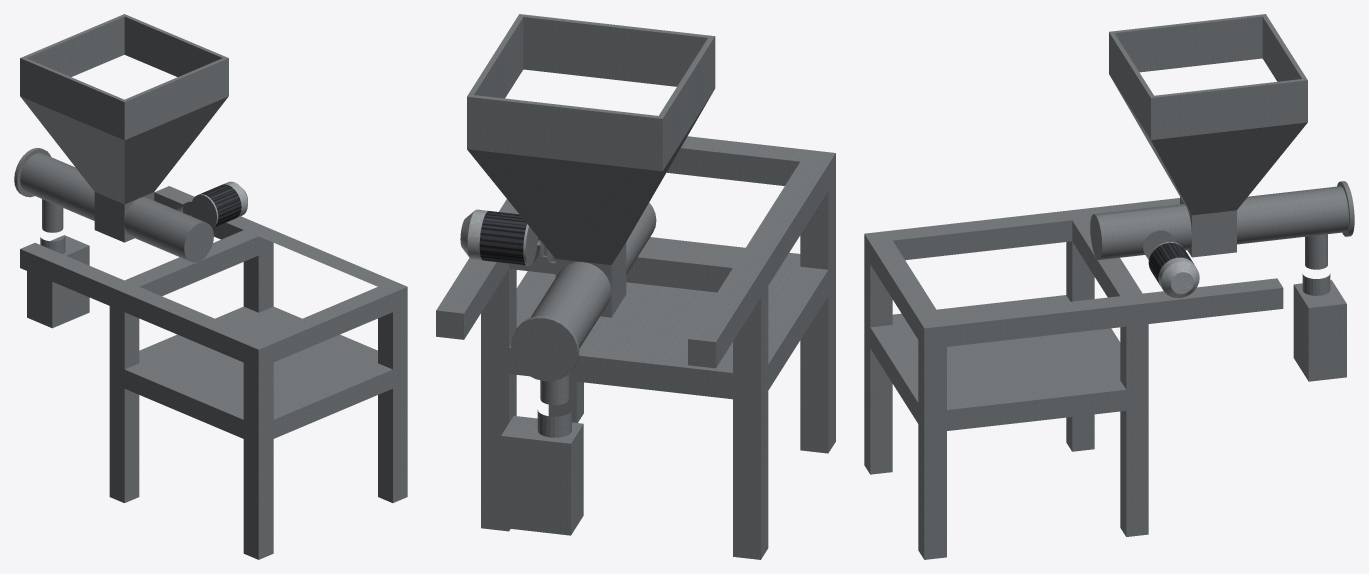
Rendered from 小料桶.glb.
The picture shows the model from 3 angles, left to right: view 1: azimuth 30°, elevation 25°; view 2: azimuth 150°, elevation 25°; view 3: azimuth 270°, elevation 25°; orthographic projection. The views are drawn at different scales.
Size of the model in its own units: 1.38 by 2 by 2.11.
3 materials, 3 textured.
